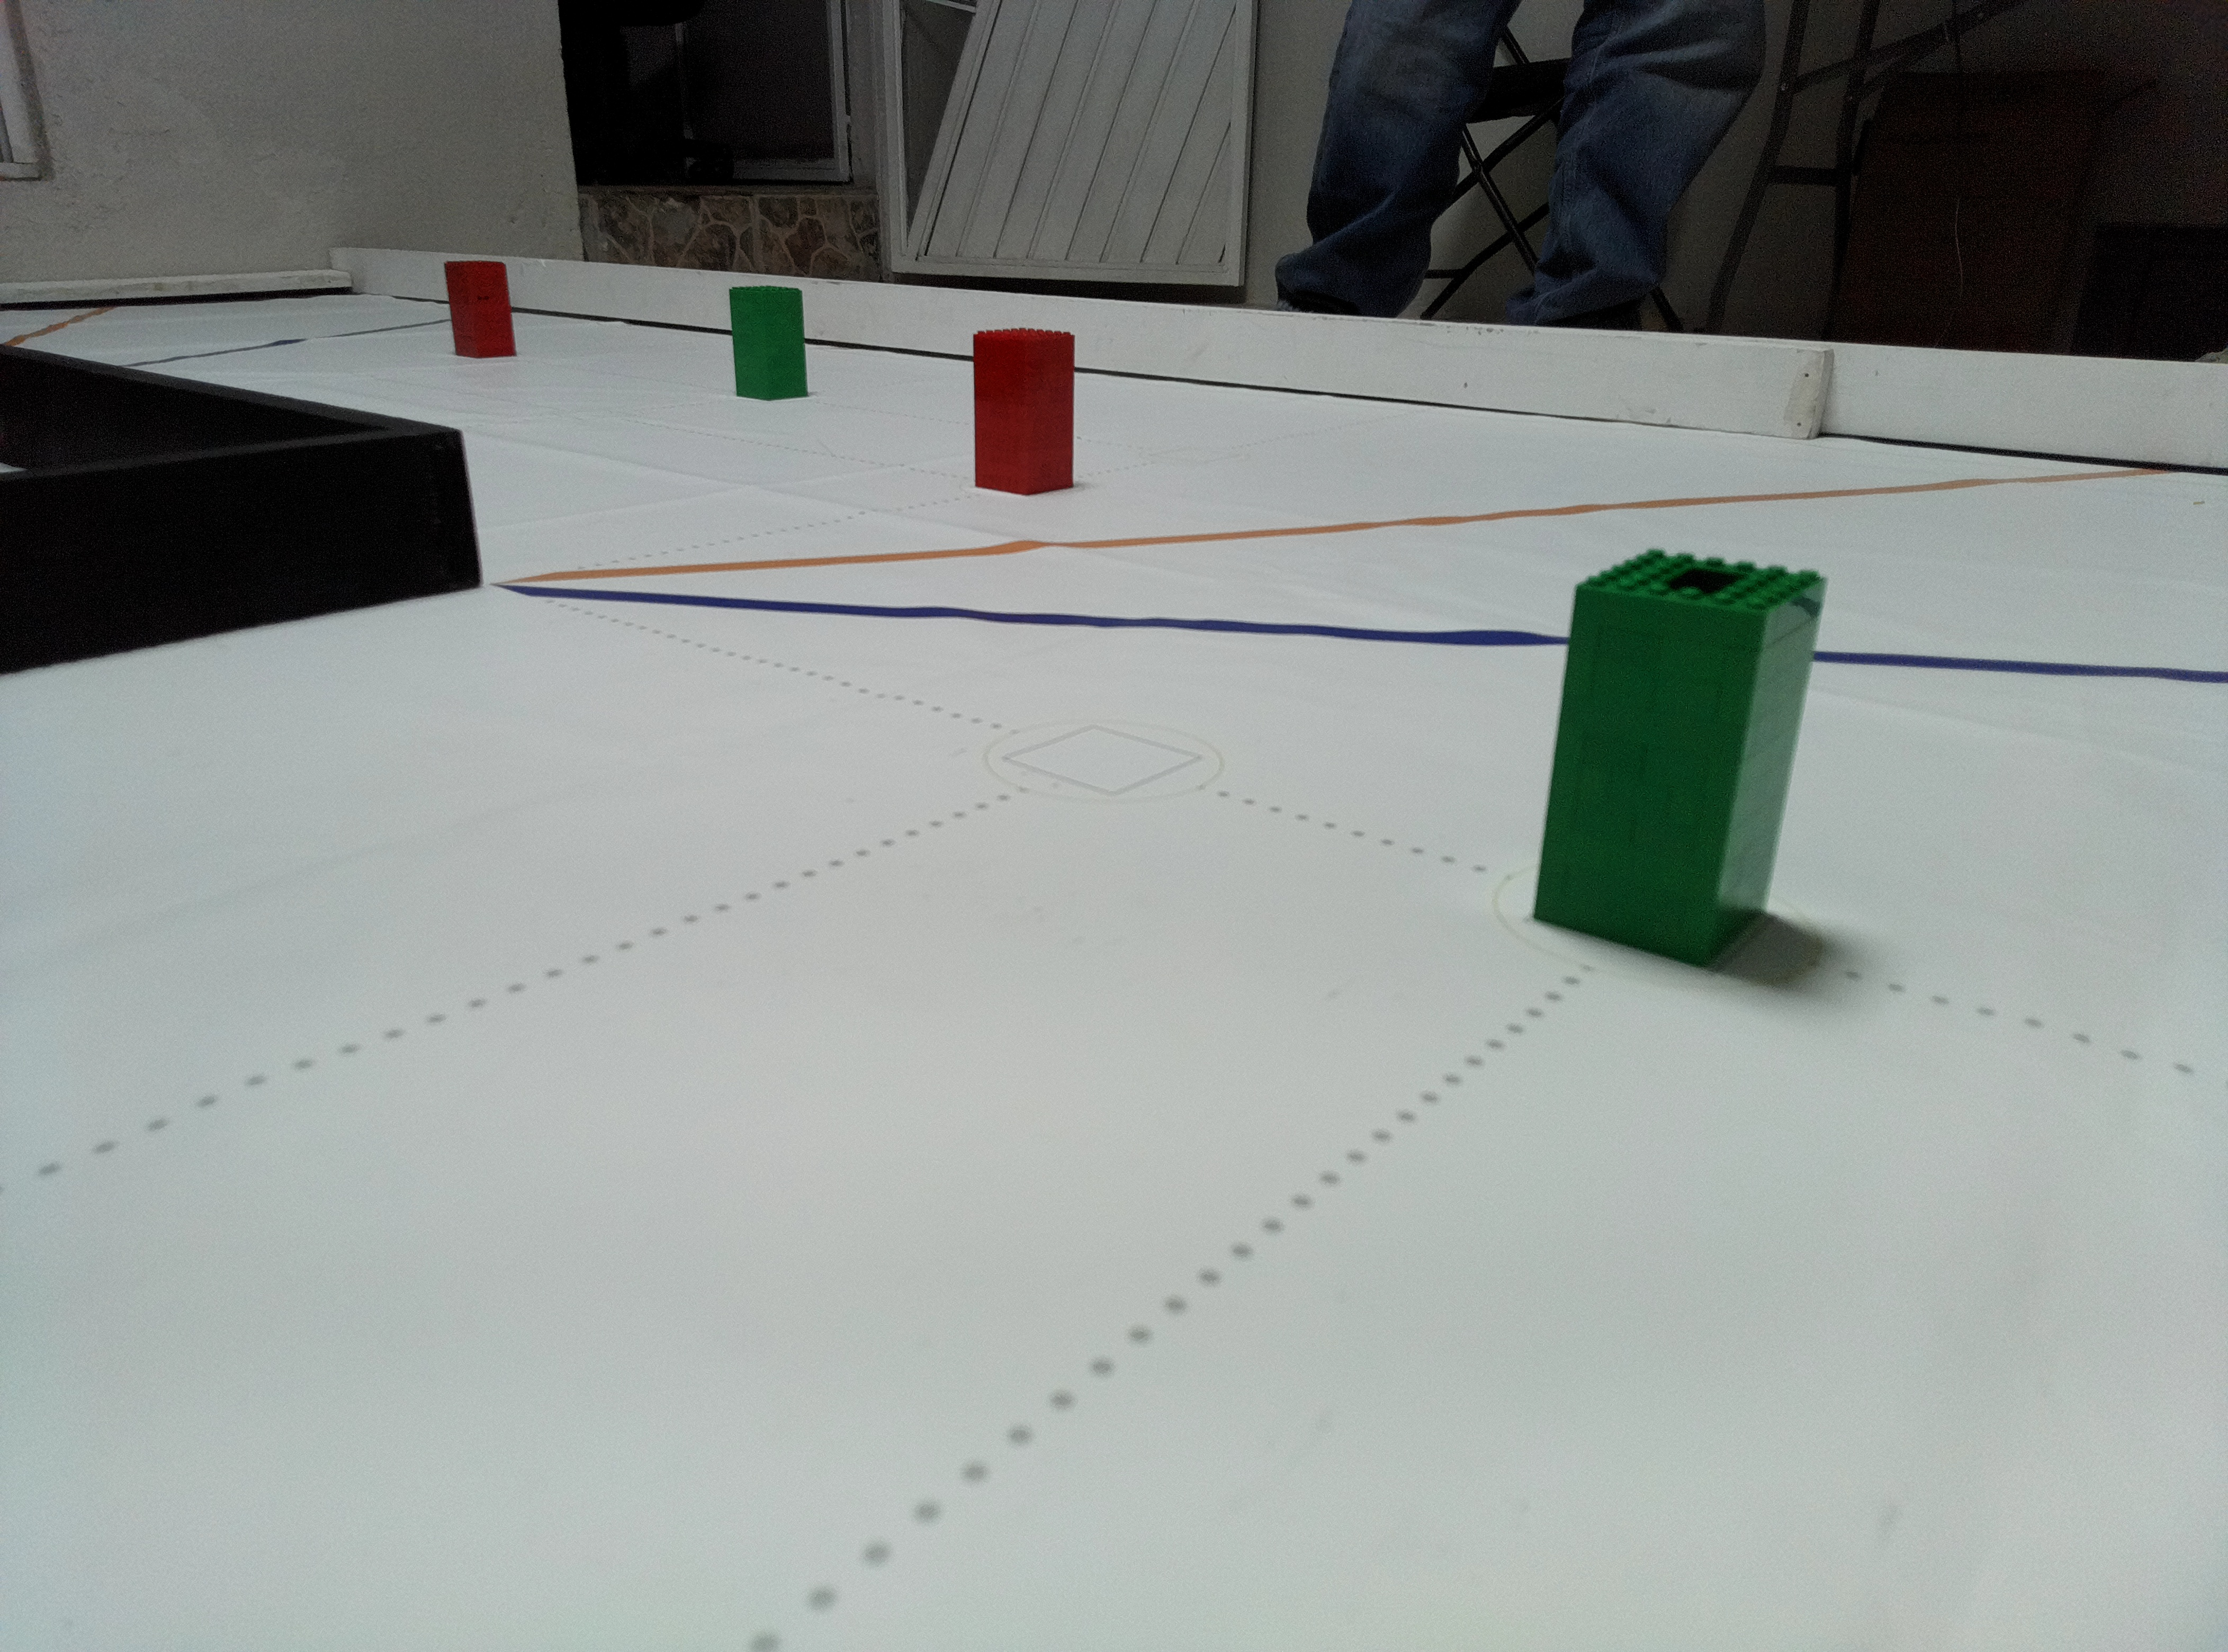greenbox: (1532, 543, 1831, 963), (727, 285, 812, 403)
redbox: (972, 328, 1076, 498), (441, 253, 515, 354)
